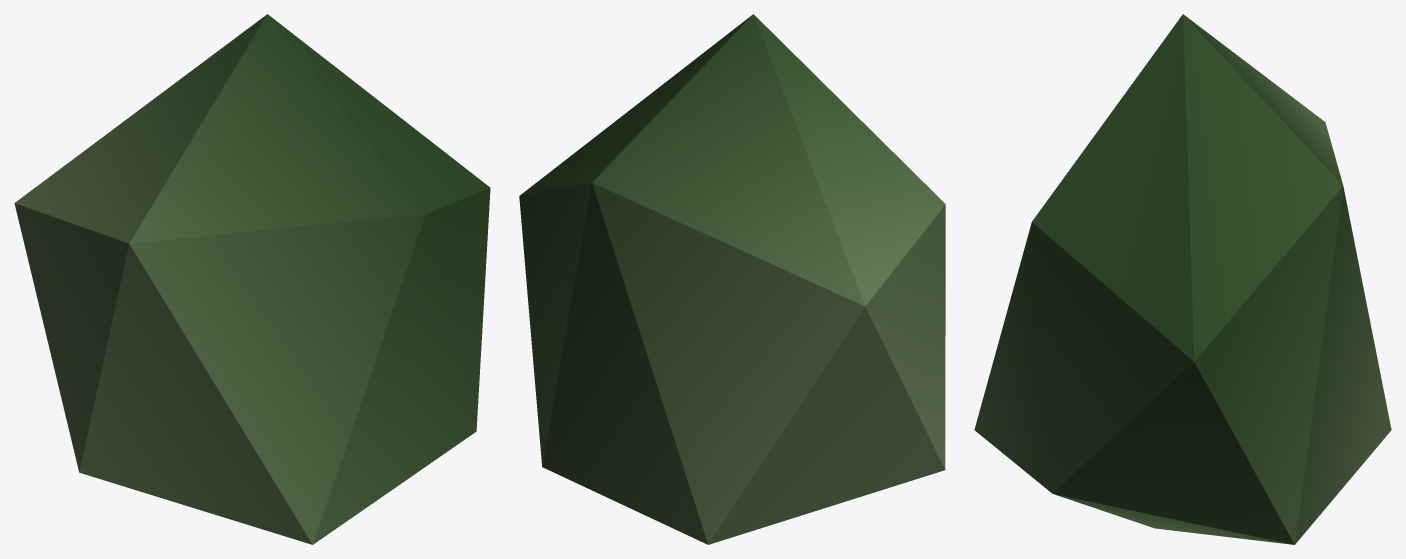
Rendered from Jade.fbx.
3 views of the same model, side by side, from view 1: azimuth 30°, elevation 25°; view 2: azimuth 150°, elevation 25°; view 3: azimuth 270°, elevation 25° (orthographic).
Parts seen in each view (by area): view 1: JADE.001; view 2: JADE.001; view 3: JADE.001.
Part boxes in pixels (x1,y1,x2,y2): JADE.001: (14,14,490,544); JADE.001: (519,14,945,544); JADE.001: (974,14,1391,544).
Bounding box in the file's own units: 194 × 226 × 166.
1 material, 1 textured.
